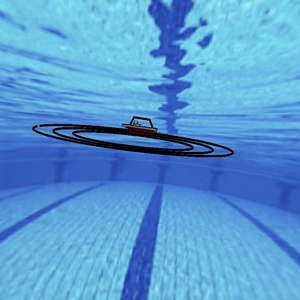circle: (12, 104, 247, 183)
submarine: (117, 108, 161, 142)
